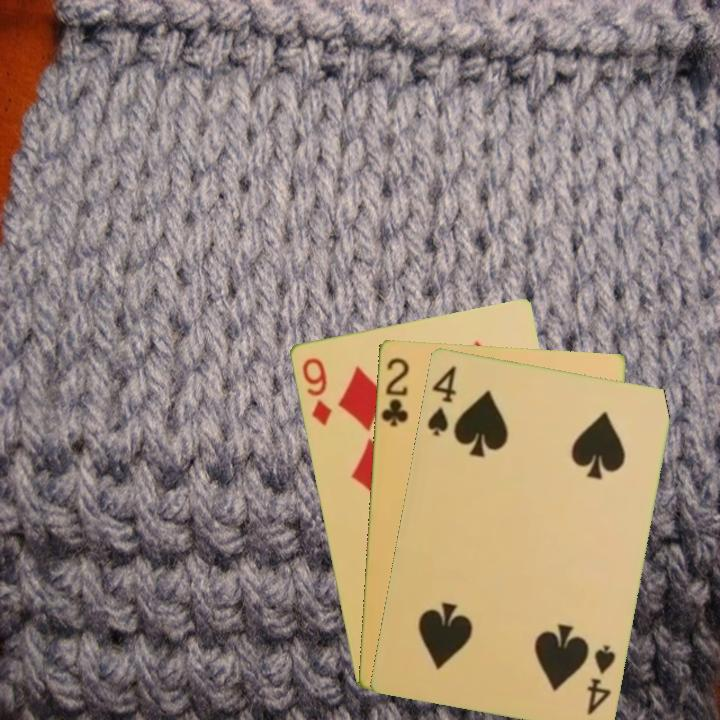2c: (377, 353, 412, 429)
4s: (423, 361, 459, 439), (582, 641, 618, 717)
9d: (298, 354, 334, 428)
